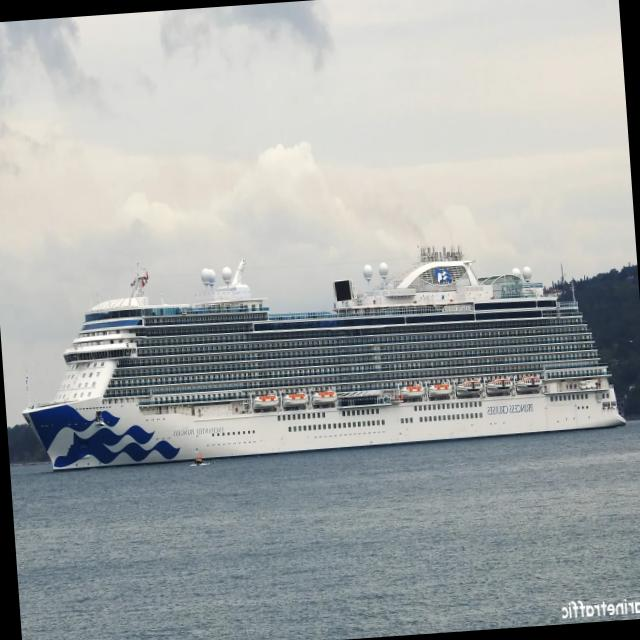Cruise: (23, 246, 625, 470), (363, 264, 372, 283)
